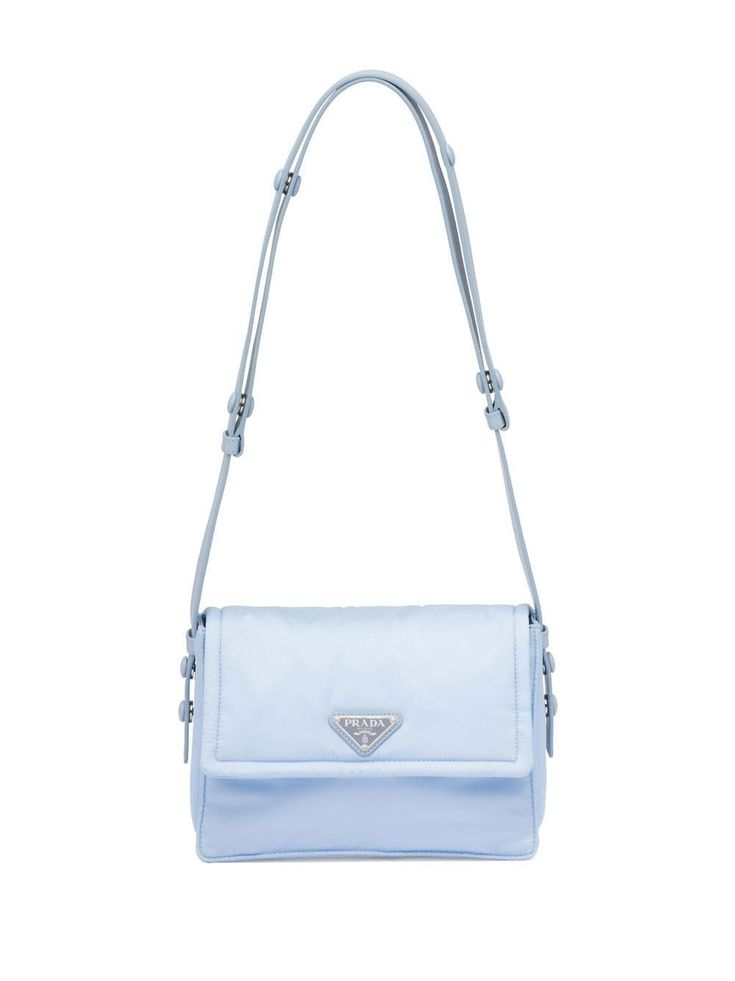nylon: (178, 602, 555, 864)
